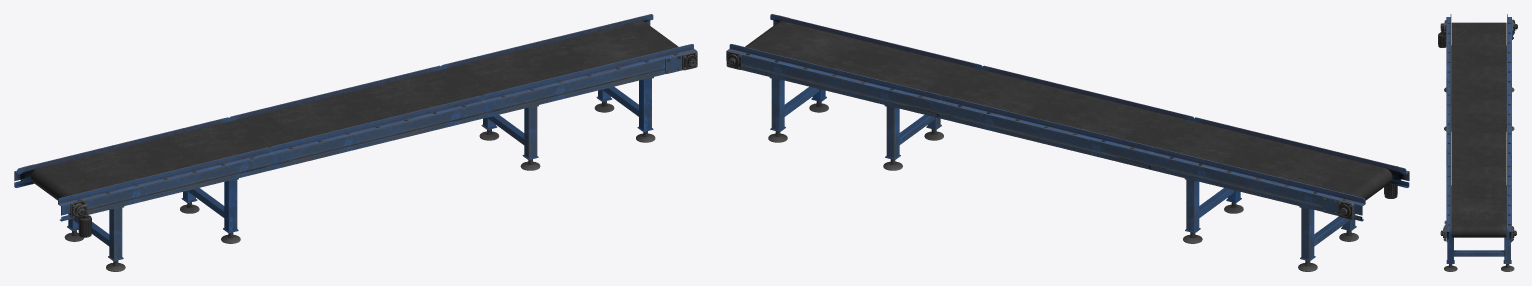
The model's file is Conveyor.FBX.
The picture shows the model from 3 angles, left to right: view 1: azimuth 30°, elevation 25°; view 2: azimuth 150°, elevation 25°; view 3: azimuth 270°, elevation 25°; orthographic projection. The views are drawn at different scales.
Parts seen in each view (by area): view 1: Belt, Side 1, Side 2, Legs, Legs 2, Attachment 1, Attachment 2; view 2: Belt, Side 2, Side 1, Legs, Legs 2, Attachment 4; view 3: Belt, Side 1, Side 2, Legs, Legs 2, Attachment 1, Attachment 2, Attachment 4.
Boxes of the visible parts, x1,y1,x2,y2 form: Belt: (31,21,678,210); Side 1: (58,44,697,221); Side 2: (14,14,653,187); Legs: (479,77,655,170); Legs 2: (64,178,240,271); Attachment 1: (70,200,91,237); Attachment 2: (665,51,697,73); Belt: (742,21,1392,206); Side 2: (726,44,1365,221); Side 1: (770,14,1409,187); Legs: (768,77,943,170); Legs 2: (1183,178,1358,271); Attachment 4: (1322,196,1354,219); Belt: (1451,22,1506,237); Side 1: (1446,14,1451,242); Side 2: (1507,14,1511,242); Legs: (1444,185,1514,271); Legs 2: (1444,45,1514,131); Attachment 1: (1438,20,1446,47); Attachment 2: (1440,220,1446,241); Attachment 4: (1512,19,1517,39).
Size of the model in its own units: 220 by 27.53 by 34.61.
Materials: 2 (2 with a texture image).
